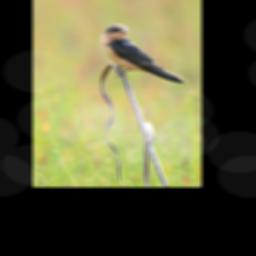Swallow: (99, 20, 192, 87)
